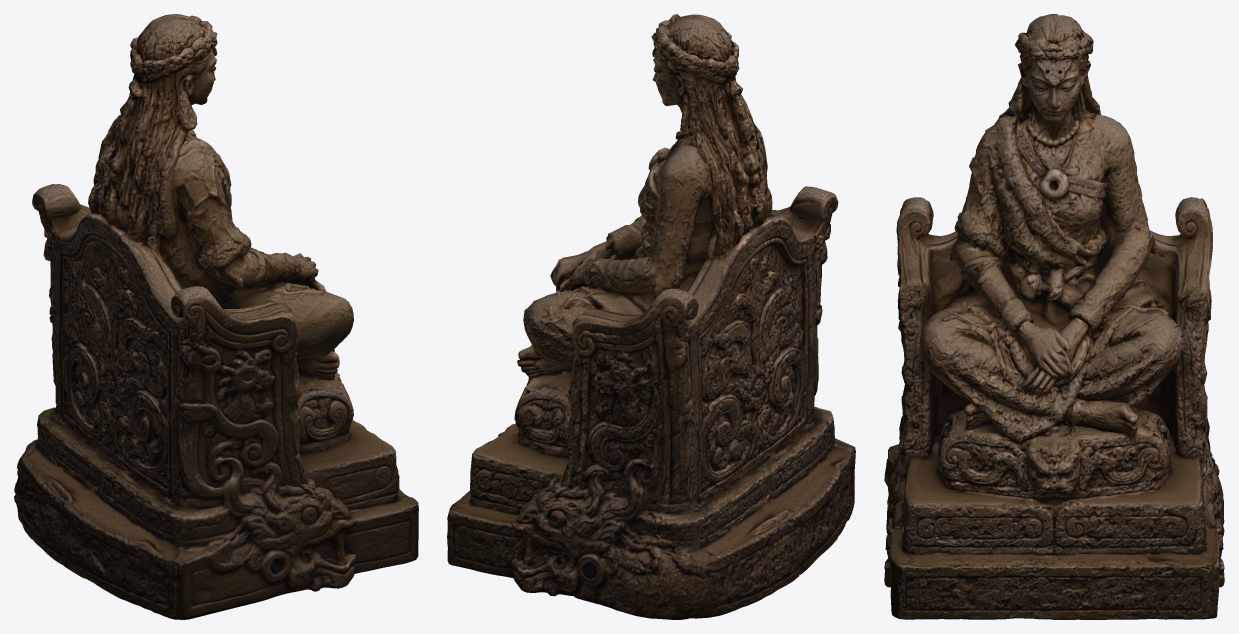
Rendered from bodhisattva_statue_3d_model_1.fbx.
3 renders of one model, left to right at view 1: azimuth 30°, elevation 25°; view 2: azimuth 150°, elevation 25°; view 3: azimuth 270°, elevation 25°, orthographic.
Visible parts, largest first — view 1: tripo_node_57945417; view 2: tripo_node_57945417; view 3: tripo_node_57945417.
Boxes of the visible parts, x1=… form: tripo_node_57945417: x1=14, y1=14, x2=418, y2=619; tripo_node_57945417: x1=447, y1=14, x2=855, y2=619; tripo_node_57945417: x1=884, y1=14, x2=1224, y2=619.
Size of the model in its own units: 0.5454 by 0.9799 by 0.5739.
